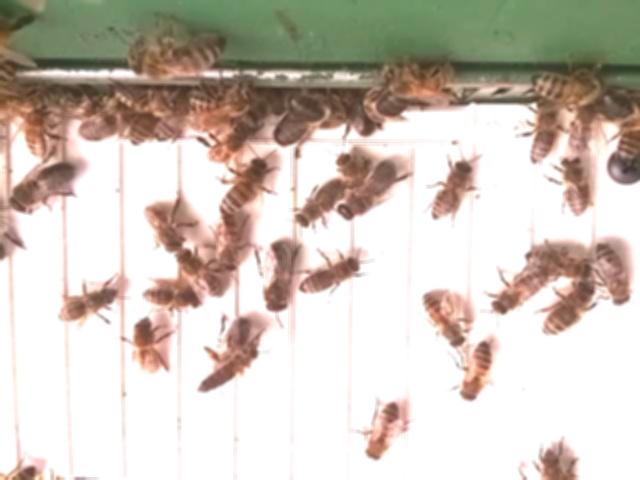Drone: (336, 159, 398, 225), (4, 160, 74, 217), (285, 88, 364, 133), (260, 240, 294, 316)
Worker: (539, 281, 596, 341), (216, 159, 270, 218), (296, 253, 362, 299), (54, 284, 123, 327), (428, 162, 474, 225), (420, 291, 465, 351), (529, 72, 605, 107), (490, 272, 547, 318), (592, 241, 630, 307), (294, 179, 343, 230), (176, 250, 224, 302), (363, 401, 401, 464), (140, 202, 184, 256), (522, 248, 596, 280), (459, 340, 494, 405), (526, 103, 560, 169), (558, 157, 593, 219), (130, 317, 162, 380), (19, 108, 53, 164), (139, 285, 204, 314), (214, 212, 242, 277)
